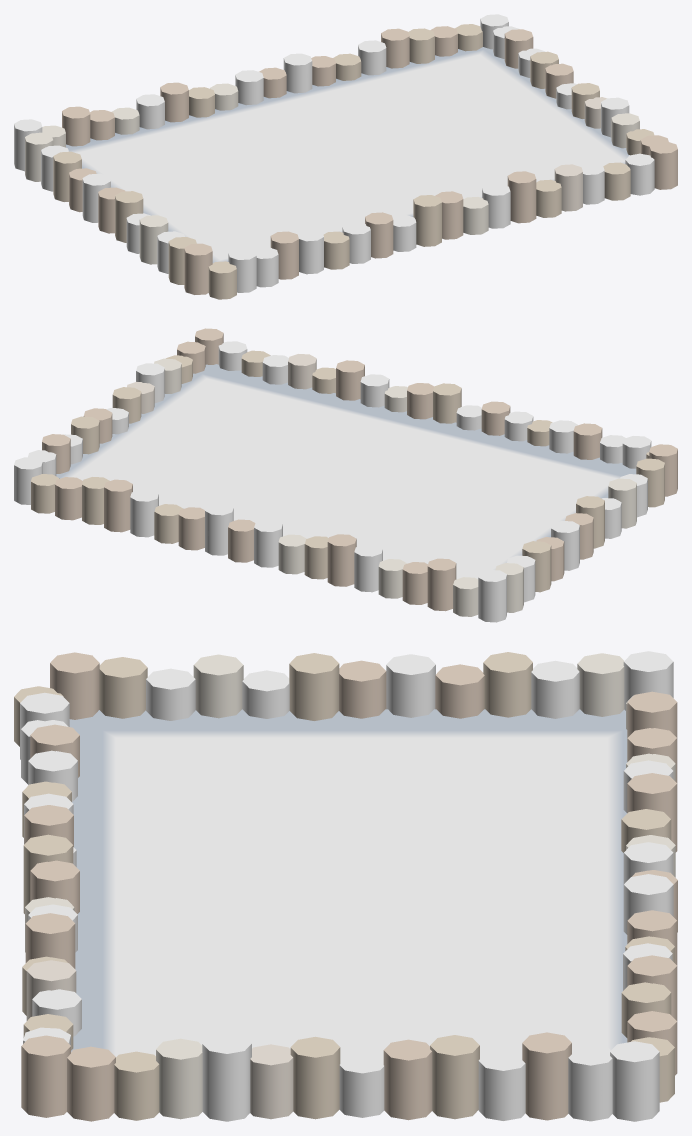
File: log-flower-bed.glb
3 renders of one model, top to bottom at view 1: azimuth 30°, elevation 25°; view 2: azimuth 150°, elevation 25°; view 3: azimuth 270°, elevation 25°, orthographic. The views are drawn at different scales.
Parts seen in each view (by area): view 1: log-flower-bed; view 2: log-flower-bed; view 3: log-flower-bed.
Boxes of the visible parts, left/top/right/bottom form: log-flower-bed: left=14, top=14, right=677, bottom=299; log-flower-bed: left=14, top=328, right=677, bottom=622; log-flower-bed: left=14, top=651, right=677, bottom=1121.
Bounding box in the file's own units: 4.61 × 0.3592 × 3.19.
